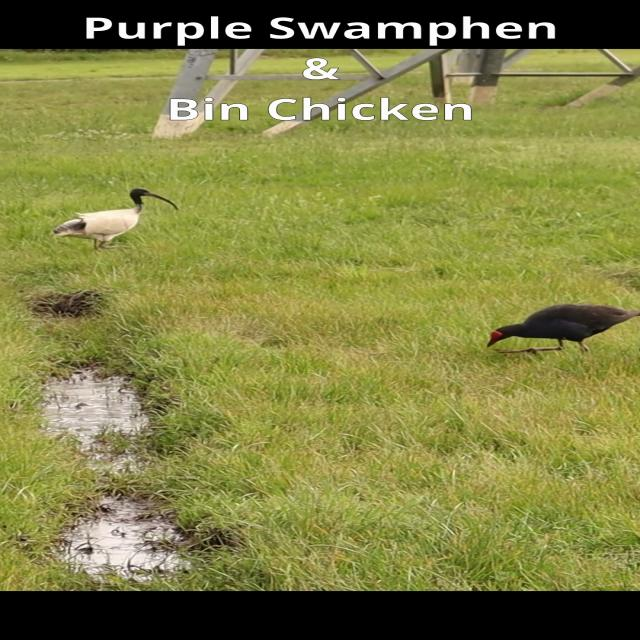Birds-Ibis: (46, 185, 186, 254)
Birds-Other: (480, 299, 638, 358)
